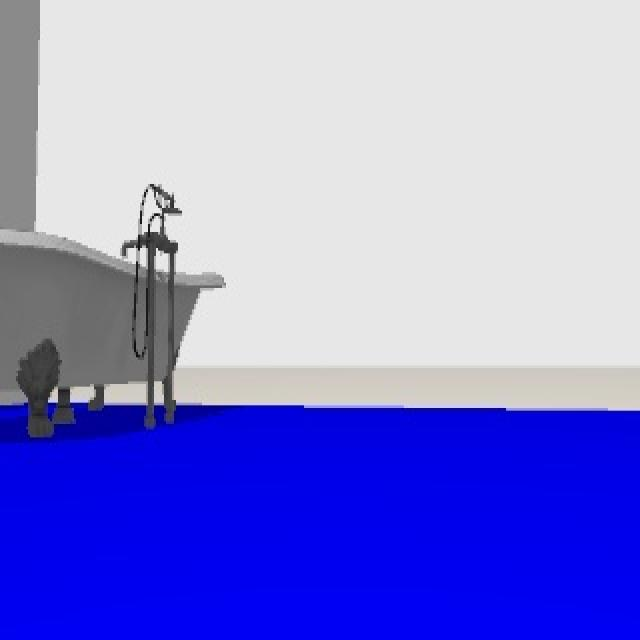bathtub: (0, 186, 223, 436)
